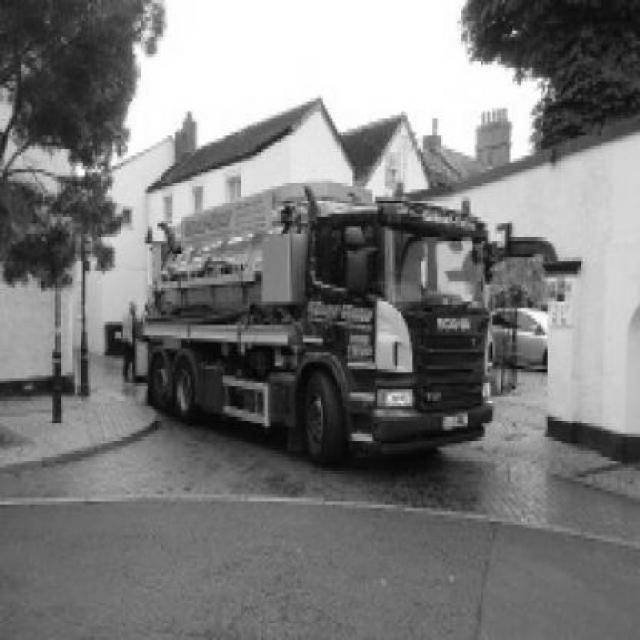Truck- Multi-Axle: (145, 200, 494, 465)
